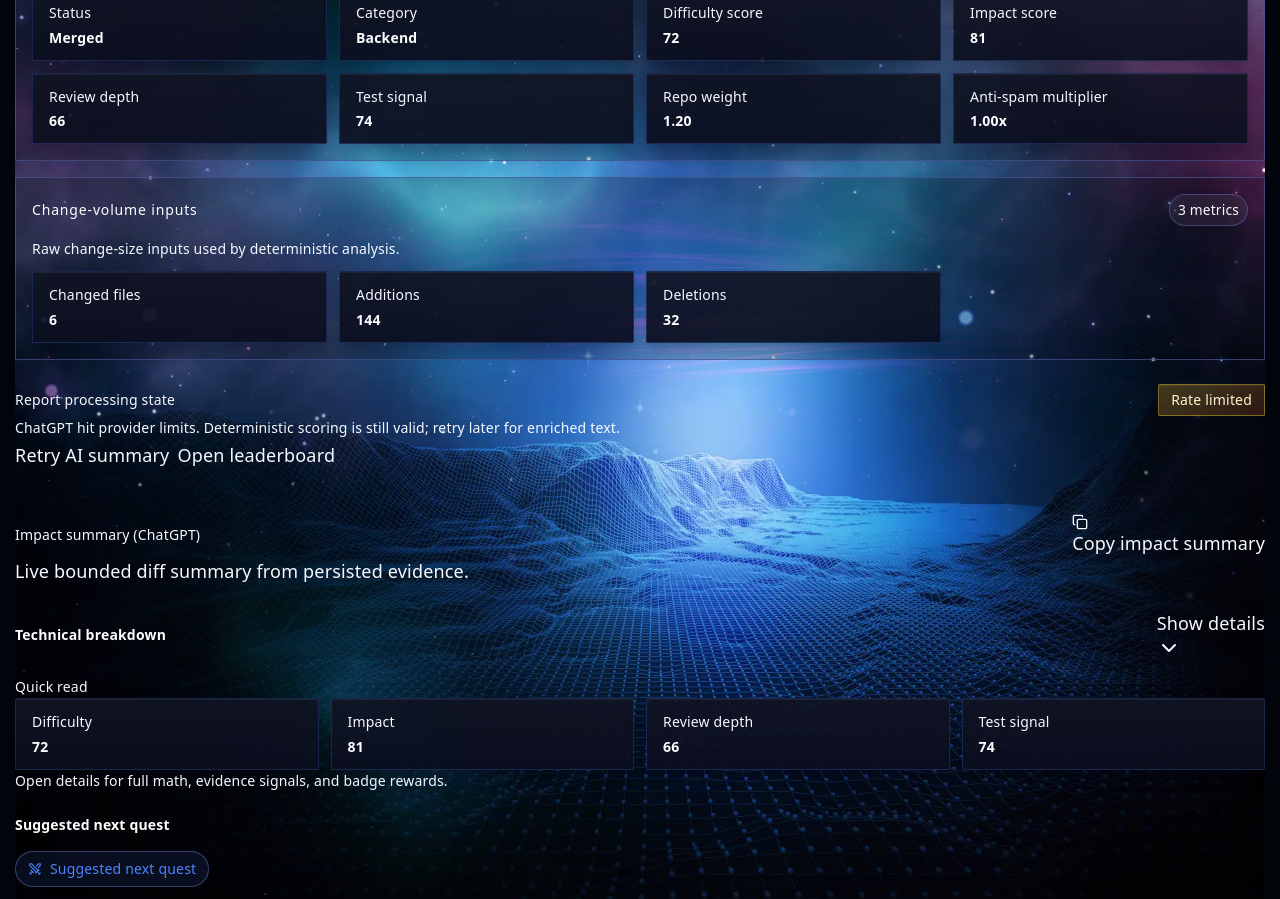
it: pr report ai retry action › keeps retry failure copy independent from private settings routes
(page scrolled)
Click the button "Retry AI summary" at (92, 455), box [15,440,169,470]
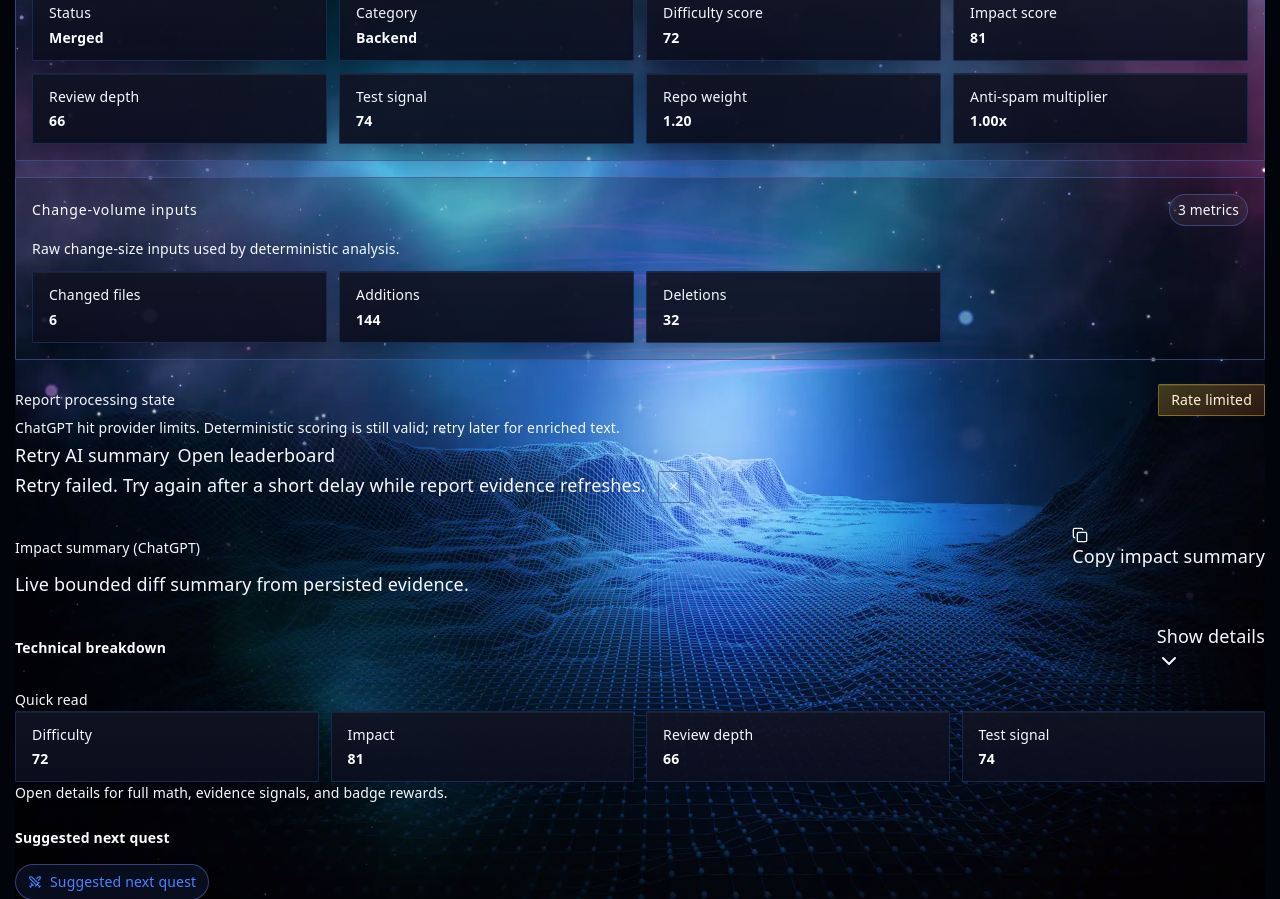
Now the text "Retry failed. Try again after a short delay while report evidence refreshes." is shown, box [15,473,646,497]
